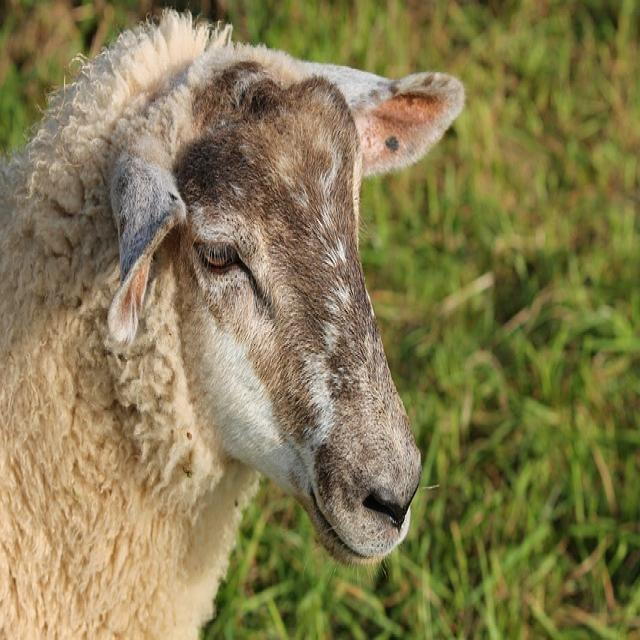goat: (0, 11, 468, 640)
